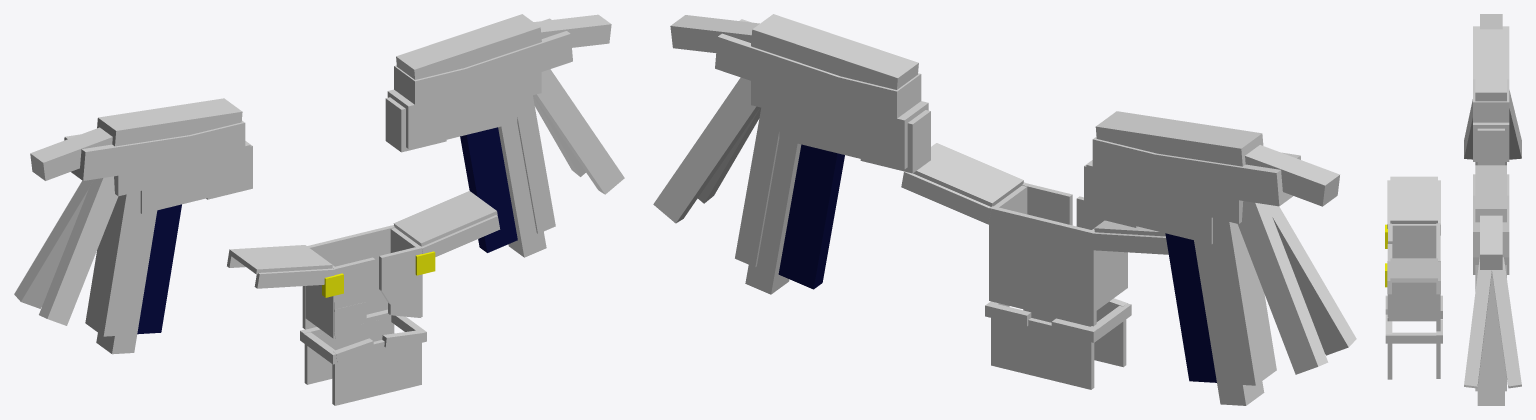
The model's file is ByakushikiChest.obj.
3 views of the same model, side by side, from view 1: azimuth 30°, elevation 25°; view 2: azimuth 150°, elevation 25°; view 3: azimuth 270°, elevation 25° (orthographic). The views are drawn at different scales.
Parts seen in each view (by area): view 1: LeftWingPiece3_Cube.048, RightWingPiece6_Cube.073, RightWingPiece2_Cube.078, RightWingPiece7_Cube.074, LeftWingPiece11_Cube.056, RightWingPiece3_Cube.077, RightWingPiece11_Cube.069, AbdomenPlate_Cube.014, LeftWingPiece4_Cube.049, LeftWingPiece2_Cube.047, LeftWingPiece7_Cube.051, RightWingPiece4_Cube.076 (+24 smaller); view 2: BackPlateTop_Cube.018, LeftWingPiece3_Cube.048, RightWingPiece6_Cube.073, RightWingPiece2_Cube.078, LeftWingPiece4_Cube.049, RightWingPiece8_Cube.072, LeftWingPiece11_Cube.056, RightWingPiece11_Cube.069, BackPlateBottom_Cube.019, LeftWingPiece8_Cube.053, RightWingPiece9_Cube.071, RightWingPiece3_Cube.077 (+20 smaller); view 3: RightWingPiece11_Cube.069, RightTopShoulderGuard_Cube.043, LeftWingPiece6_Cube.052, LeftSidePlate_Cube.028, LeftWingPiece8_Cube.053, LeftWingPiece7_Cube.051, LeftWingPiece11_Cube.056, RightSidePlate_Cube.030, LeftWingPiece10_Cube.055, LeftTopShoulderGuard_Cube.040, RightWingPiece1_Cube.079, RightWingPiece3_Cube.077 (+15 smaller).
Boxes of the visible parts, <box> form: LeftWingPiece3_Cube.048: <box>394,50,541,123</box>; RightWingPiece6_Cube.073: <box>85,191,140,336</box>; RightWingPiece2_Cube.078: <box>140,141,250,213</box>; RightWingPiece7_Cube.074: <box>39,176,118,325</box>; LeftWingPiece11_Cube.056: <box>396,14,541,79</box>; RightWingPiece3_Cube.077: <box>114,120,245,196</box>; RightWingPiece11_Cube.069: <box>97,98,242,146</box>; AbdomenPlate_Cube.014: <box>332,340,421,405</box>; LeftWingPiece4_Cube.049: <box>460,127,517,252</box>; LeftWingPiece2_Cube.047: <box>387,80,517,148</box>; LeftWingPiece7_Cube.051: <box>533,69,624,194</box>; RightWingPiece4_Cube.076: <box>137,204,181,334</box>; BackPlateTop_Cube.018: <box>989,206,1096,326</box>; LeftWingPiece3_Cube.048: <box>751,56,921,140</box>; RightWingPiece6_Cube.073: <box>1212,218,1276,385</box>; RightWingPiece2_Cube.078: <box>1086,160,1212,244</box>; LeftWingPiece4_Cube.049: <box>778,144,844,289</box>; RightWingPiece8_Cube.072: <box>1237,201,1328,374</box>; LeftWingPiece11_Cube.056: <box>751,14,918,89</box>; RightWingPiece11_Cube.069: <box>1095,111,1263,166</box>; BackPlateBottom_Cube.019: <box>991,318,1094,389</box>; LeftWingPiece8_Cube.053: <box>653,77,759,223</box>; RightWingPiece9_Cube.071: <box>1131,151,1300,206</box>; RightWingPiece3_Cube.077: <box>1092,136,1243,223</box>; RightWingPiece11_Cube.069: <box>1475,29,1506,101</box>; RightTopShoulderGuard_Cube.043: <box>1390,176,1437,223</box>; LeftWingPiece6_Cube.052: <box>1475,265,1506,391</box>; LeftSidePlate_Cube.028: <box>1388,282,1436,321</box>; LeftWingPiece8_Cube.053: <box>1492,257,1521,388</box>; LeftWingPiece7_Cube.051: <box>1464,257,1491,388</box>; LeftWingPiece11_Cube.056: <box>1475,165,1506,222</box>; RightSidePlate_Cube.030: <box>1392,224,1436,258</box>; LeftWingPiece10_Cube.055: <box>1480,215,1502,269</box>; LeftTopShoulderGuard_Cube.040: <box>1390,258,1437,282</box>; RightWingPiece1_Cube.079: <box>1477,128,1504,165</box>; RightWingPiece3_Cube.077: <box>1473,79,1509,122</box>.
Bounding box in the file's own units: 2.56 × 1.18 × 0.6023.
